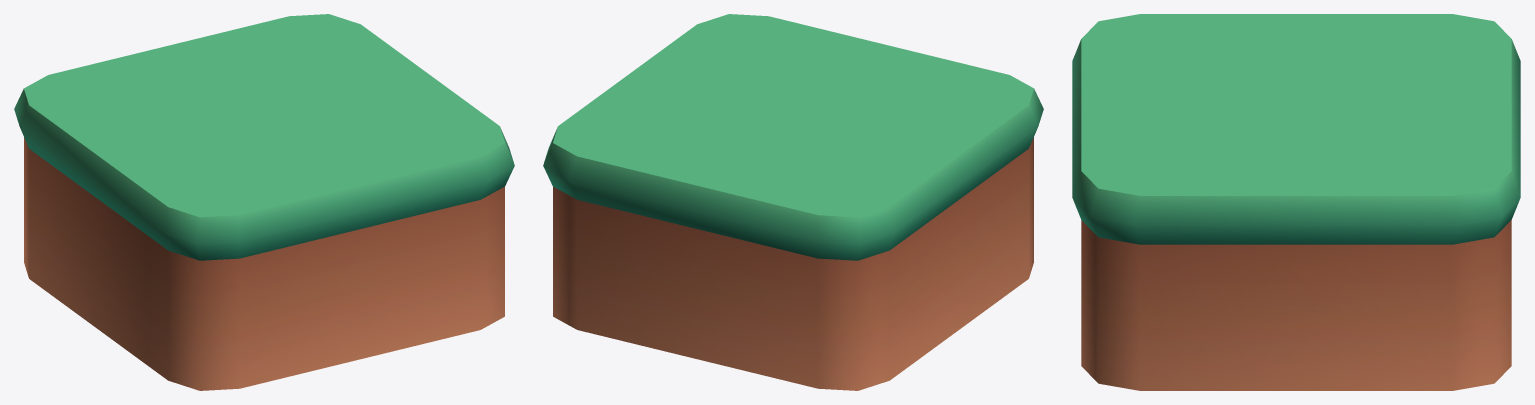
The model's file is kenney-platformer-block-grass-large.glb.
3 renders of one model, left to right at view 1: azimuth 30°, elevation 25°; view 2: azimuth 150°, elevation 25°; view 3: azimuth 270°, elevation 25°, orthographic. The views are drawn at different scales.
Parts seen in each view (by area): view 1: block-grass-large; view 2: block-grass-large; view 3: block-grass-large.
Part boxes in pixels (left/top/right/bottom): block-grass-large: left=14, top=14, right=514, bottom=390; block-grass-large: left=543, top=14, right=1043, bottom=390; block-grass-large: left=1072, top=14, right=1520, bottom=390.
Bounding box in the file's own units: 2.08 × 1 × 2.08.
1 material, 1 textured.
